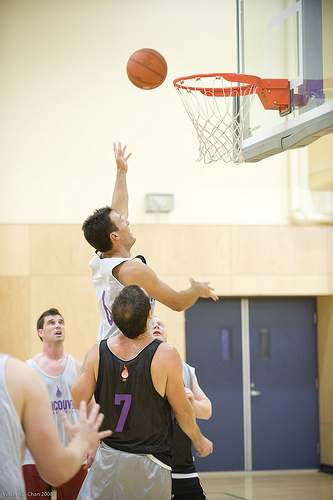basketball: (128, 49, 168, 92)
